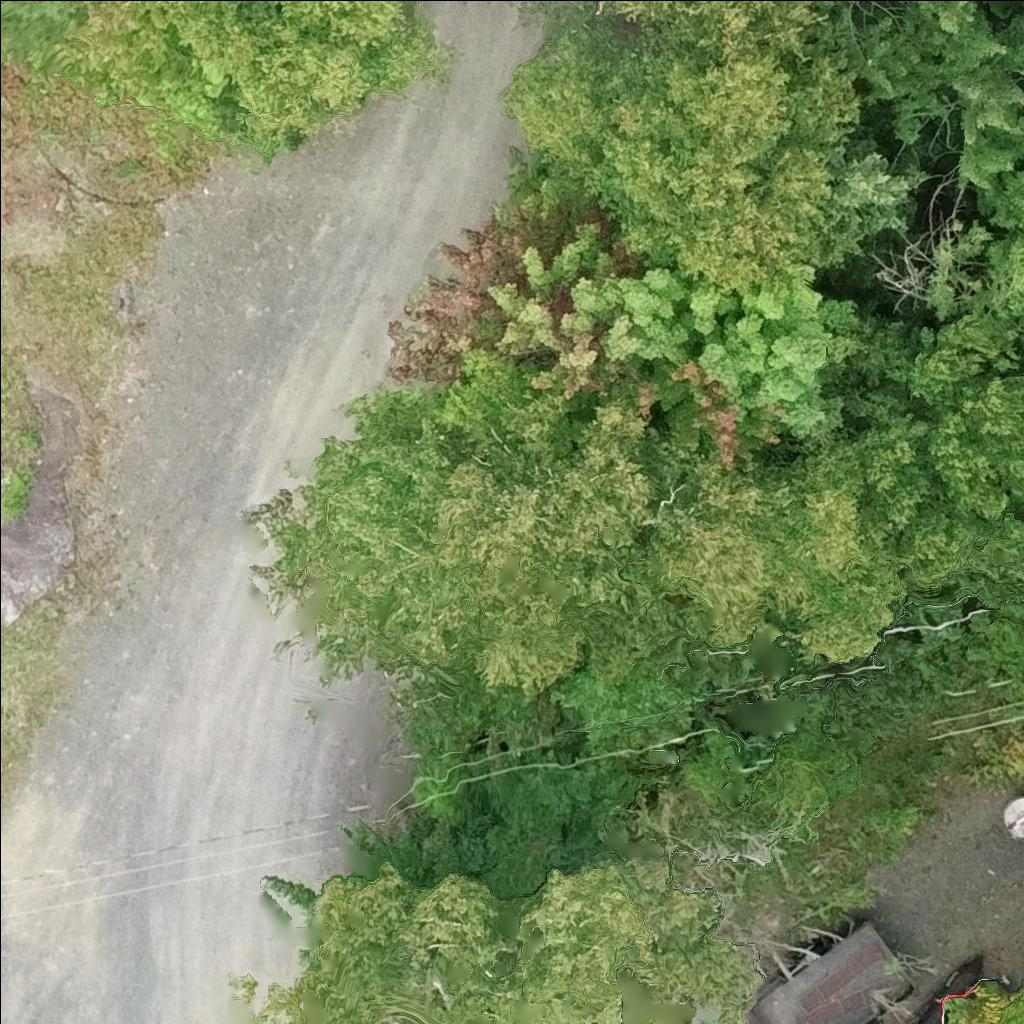crown: (501, 0, 919, 289), (429, 380, 792, 676), (477, 136, 644, 400), (629, 259, 854, 414), (235, 0, 412, 137), (147, 0, 184, 12), (820, 0, 847, 6)
